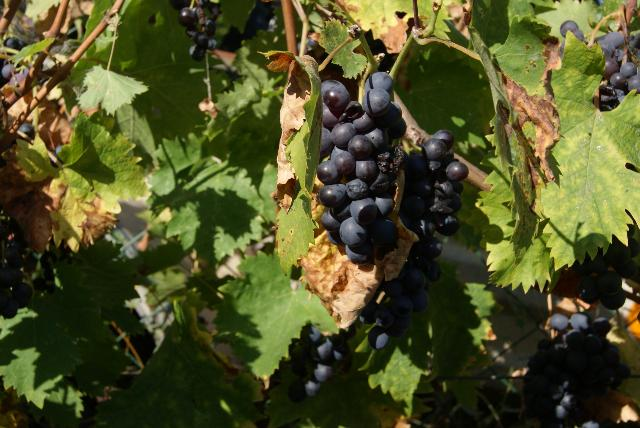grapes: (361, 131, 468, 349), (316, 74, 404, 265), (594, 31, 640, 111)
